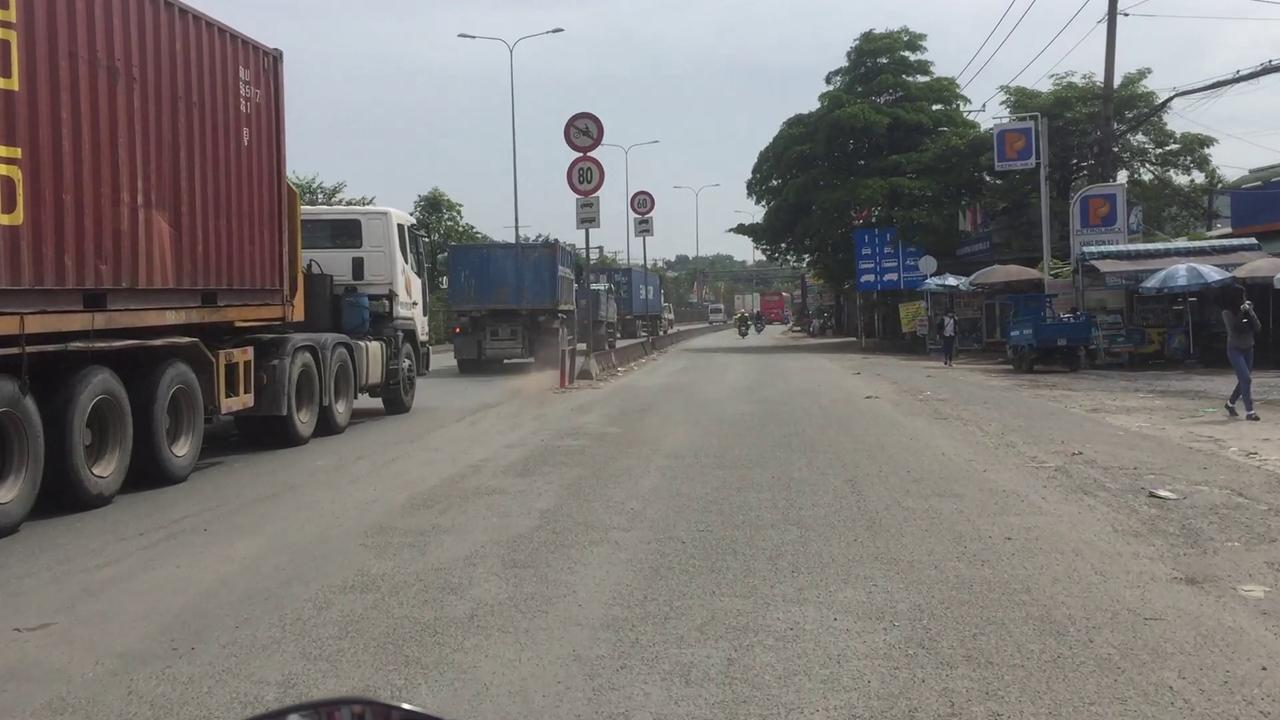P.103b: (563, 111, 604, 155)
P.245a: (629, 188, 656, 215)
R.301c: (564, 154, 605, 196)
